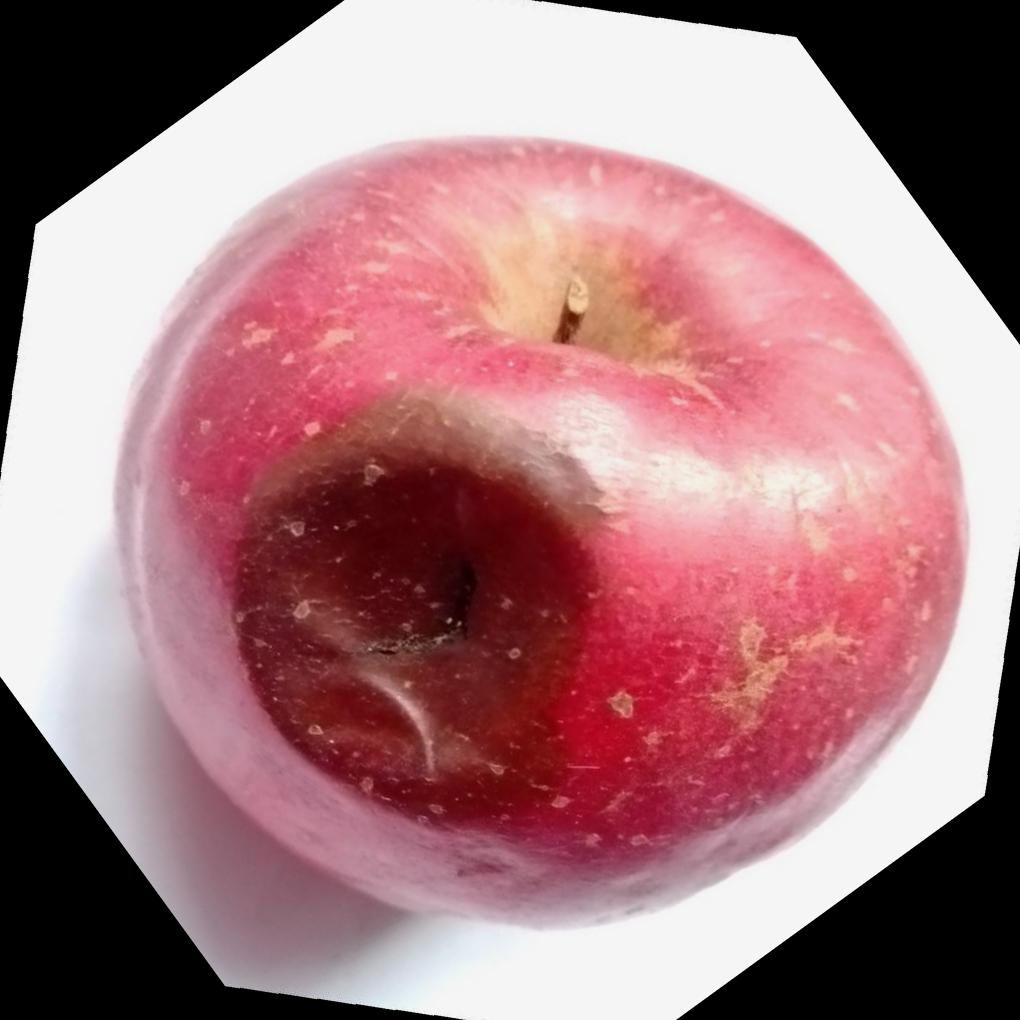FreshOrange: (109, 133, 977, 937)
